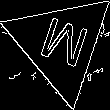M_S: (32, 13, 90, 75)
